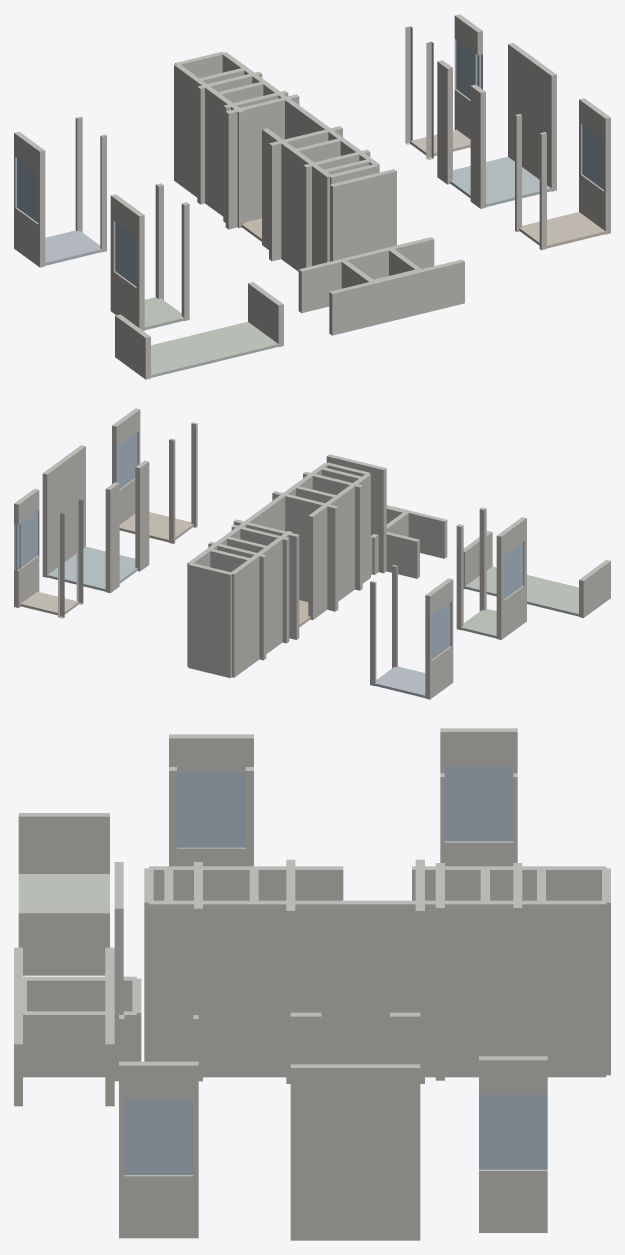
File: flat.glb
3 renders of one model, top to bottom at view 1: azimuth 30°, elevation 25°; view 2: azimuth 150°, elevation 25°; view 3: azimuth 270°, elevation 25°, orthographic. The views are drawn at different scales.
Bounding box in the file's own units: 11.35 × 2.5 × 7.83.
